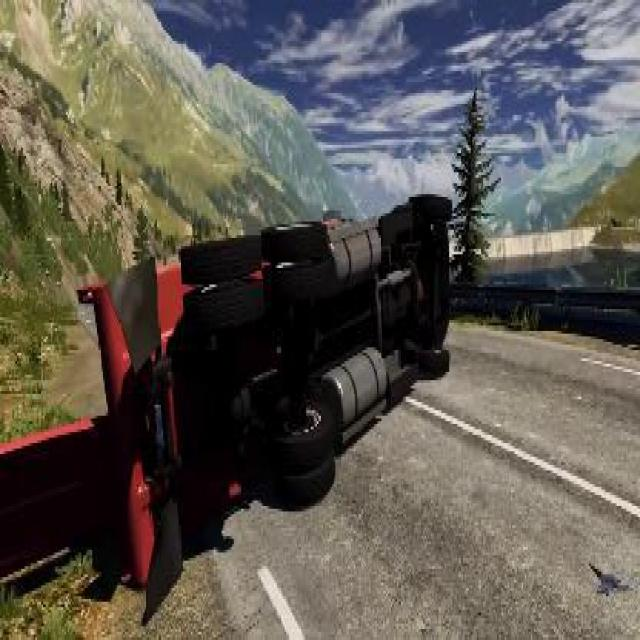accident: (72, 192, 458, 607)
